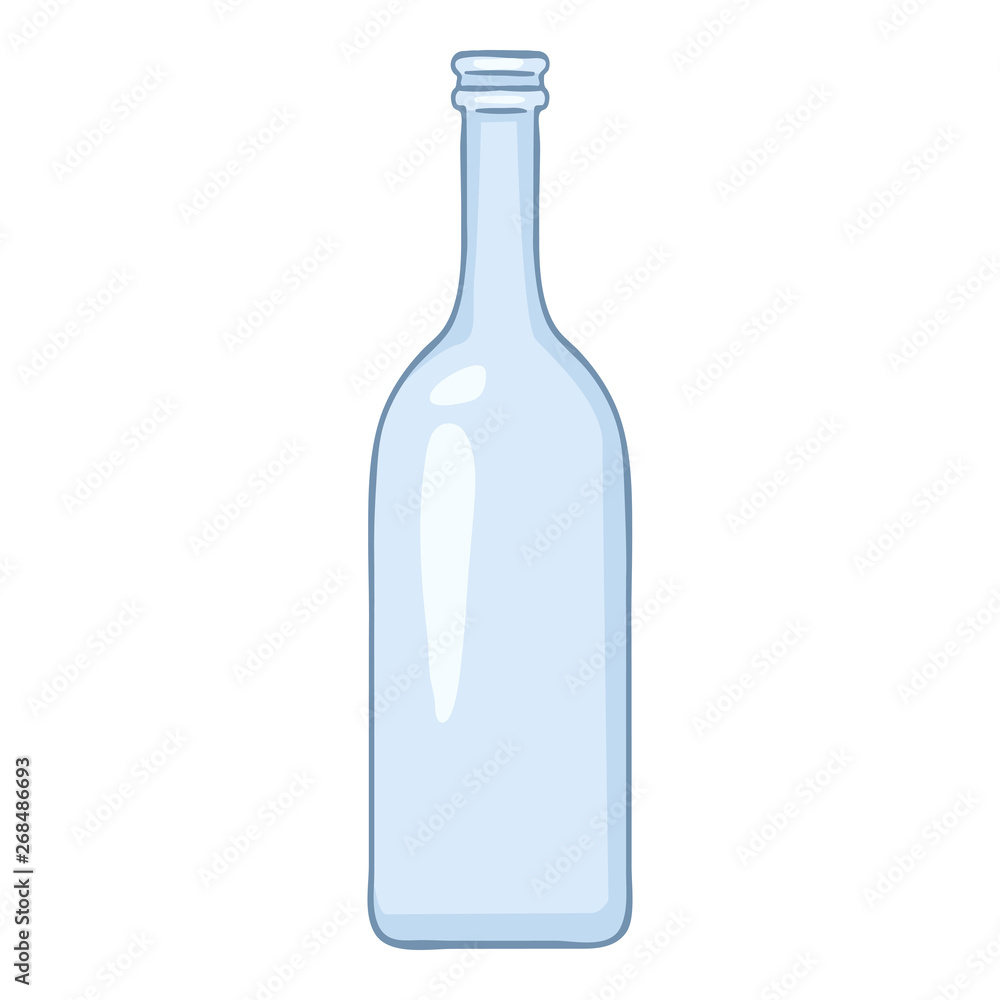glass_bottle: (329, 40, 673, 970)
